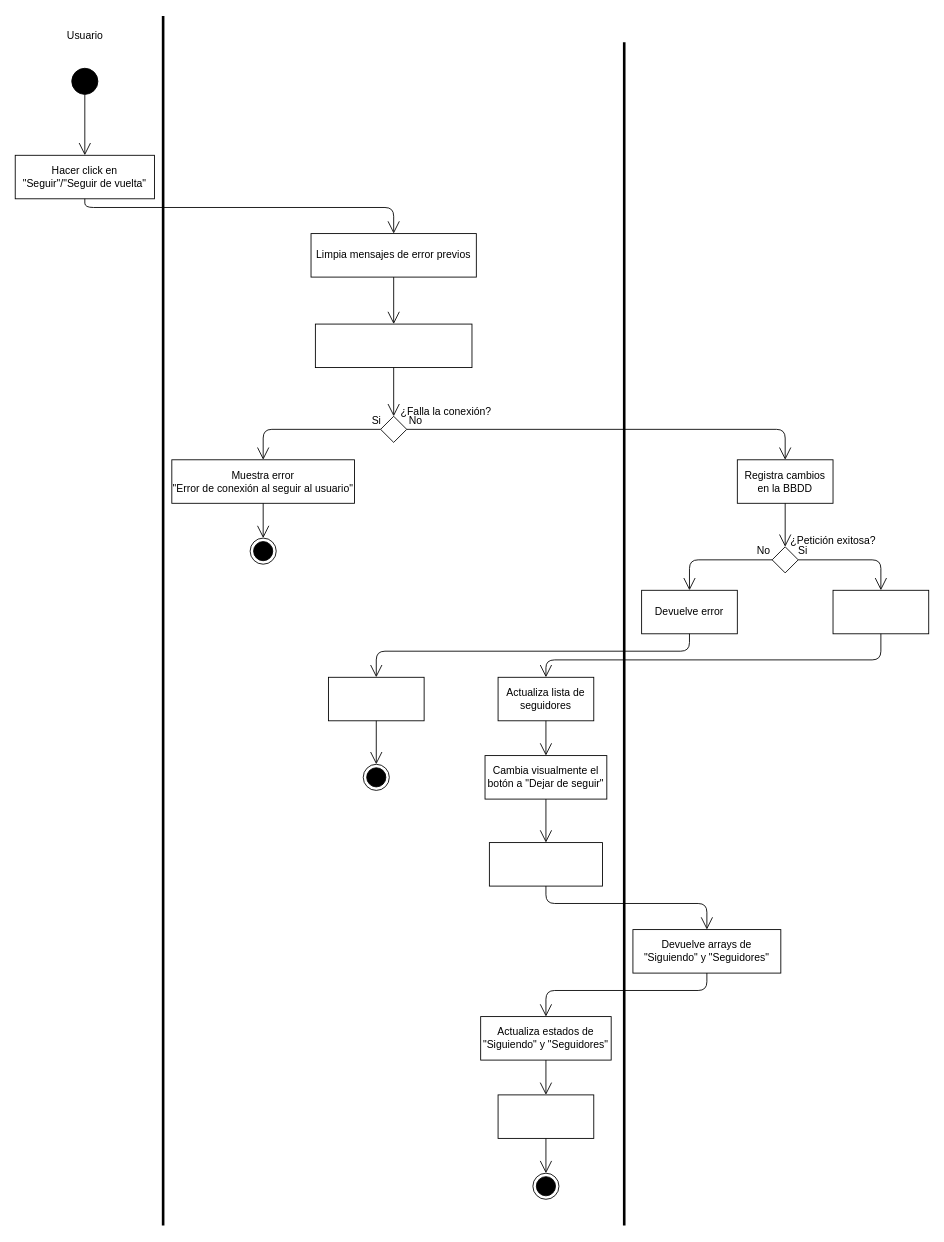
Some shapes in this 944 by 1242 pixel diagram are drawn without their labels. The shapes that lost their labels are listed below. From the top down, each one's centre as x and y in pixels, then its label:
point (393, 345): Inicia petición POST a "api/usuarios/{user.id}/seguir
point (880, 611): Devuelve respuesta 200 OK
point (376, 698): Muestra mensaje de error
point (545, 864): Sincroniza ejecutando fetchAmigos()
point (545, 1116): Muestra listas actualizadas
